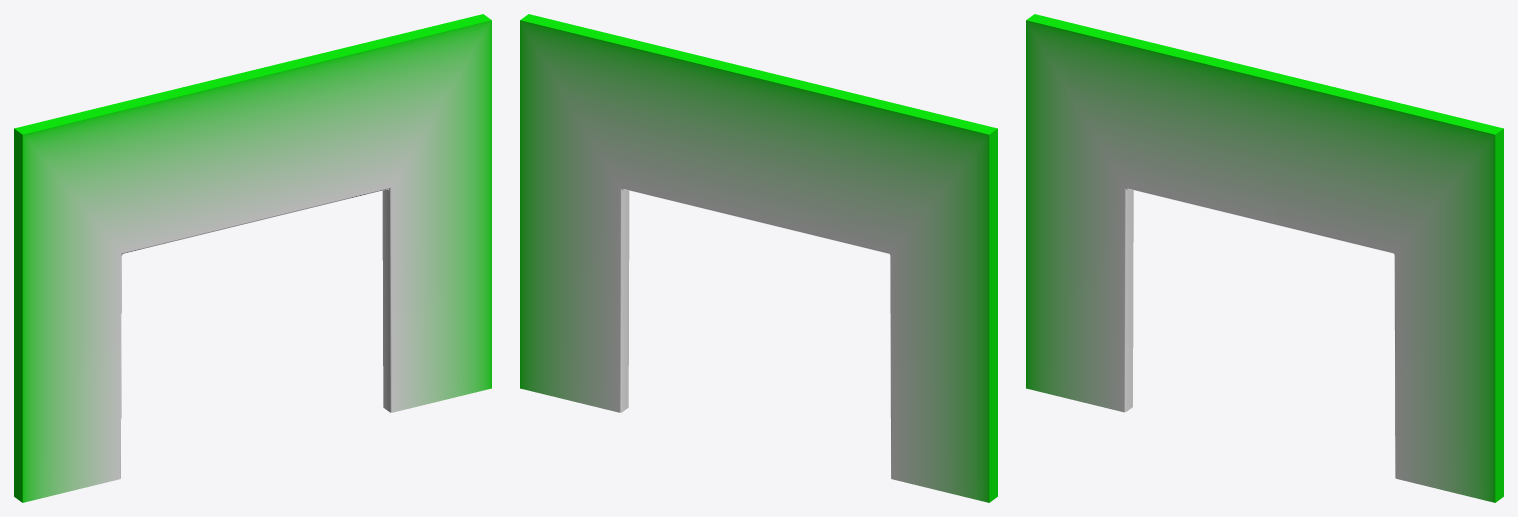
The model's file is SM_DoubleDoor_Center.fbx.
3 views of the same model, side by side, from view 1: azimuth 30°, elevation 25°; view 2: azimuth 150°, elevation 25°; view 3: azimuth 330°, elevation 25° (orthographic).
Parts seen in each view (by area): view 1: SM_DoubleDoor_Center; view 2: SM_DoubleDoor_Center; view 3: SM_DoubleDoor_Center.
Part boxes in pixels (x1,y1,x2,y2): SM_DoubleDoor_Center: [14, 14, 491, 502]; SM_DoubleDoor_Center: [520, 14, 997, 502]; SM_DoubleDoor_Center: [1026, 14, 1503, 502].
Bounding box in the file's own units: 5.12 × 3.84 × 0.1608.
